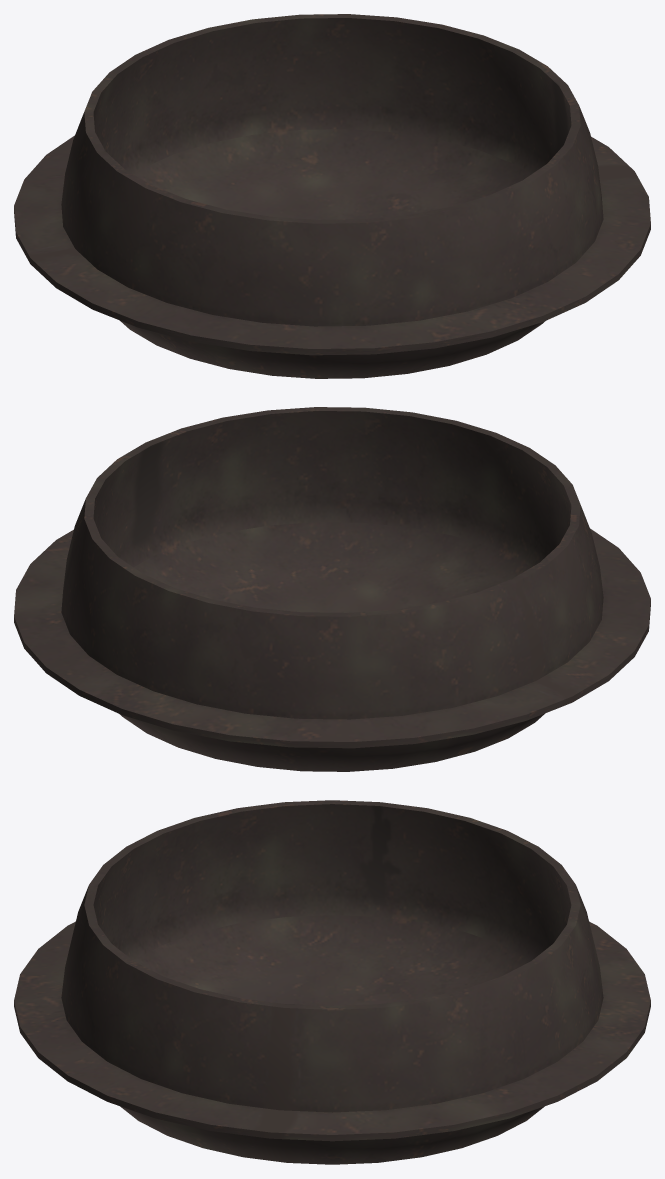
File: gamasot.glb
The picture shows the model from 3 angles, top to bottom: view 1: azimuth 30°, elevation 25°; view 2: azimuth 150°, elevation 25°; view 3: azimuth 270°, elevation 25°; orthographic projection.
Visible parts, largest first — view 1: SM_Cauldron01a; view 2: SM_Cauldron01a; view 3: SM_Cauldron01a.
Boxes of the visible parts, x1,y1,x2,y2 form: SM_Cauldron01a: (14,14,650,378); SM_Cauldron01a: (14,407,650,771); SM_Cauldron01a: (14,800,650,1164).
Bounding box in the file's own units: 0.6709 × 0.2156 × 0.6709.
Materials: 1 (1 with a texture image).
